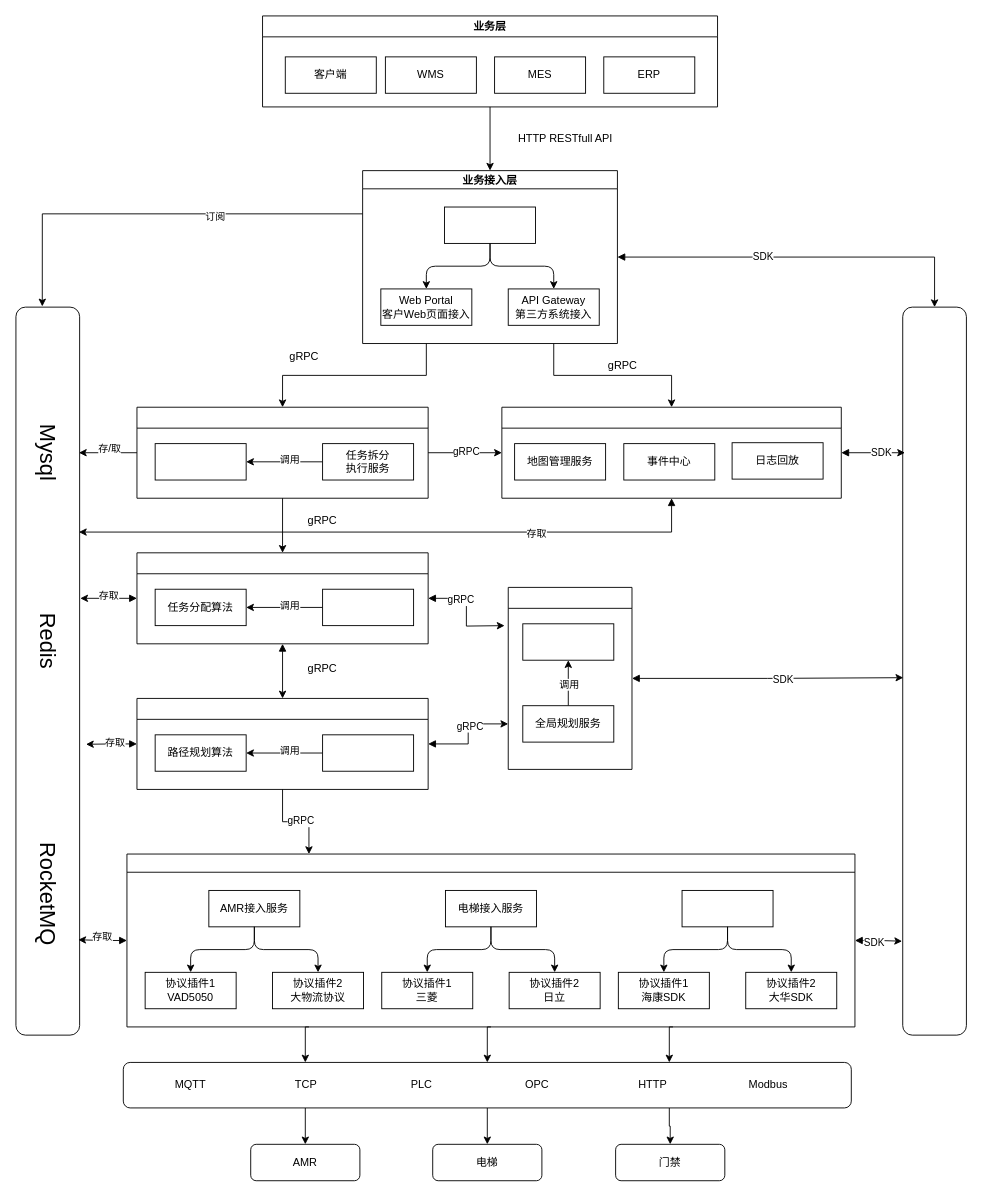
Some shapes in this 983 by 1197 pixel diagram are drawn without their labels. Here are the shapes that lost their labels. From the top down, the box of each, then its label:
(444, 206, 536, 243): Nginx
(154, 443, 246, 480): 任务编排引擎
(136, 406, 428, 498): 任务编排层
(501, 406, 841, 498): 其他服务
(136, 552, 428, 644): 任务分配层
(322, 588, 414, 626): 任务分配服务
(522, 623, 614, 660): 全局规划算法
(507, 586, 632, 769): 全局规划层
(902, 306, 966, 1035): etcd服务注册发现与配置管理
(136, 698, 428, 789): 任务执行层
(322, 734, 414, 771): 任务执行服务
(681, 890, 773, 927): 门禁接入服务
(126, 853, 855, 1027): 设备接入层
